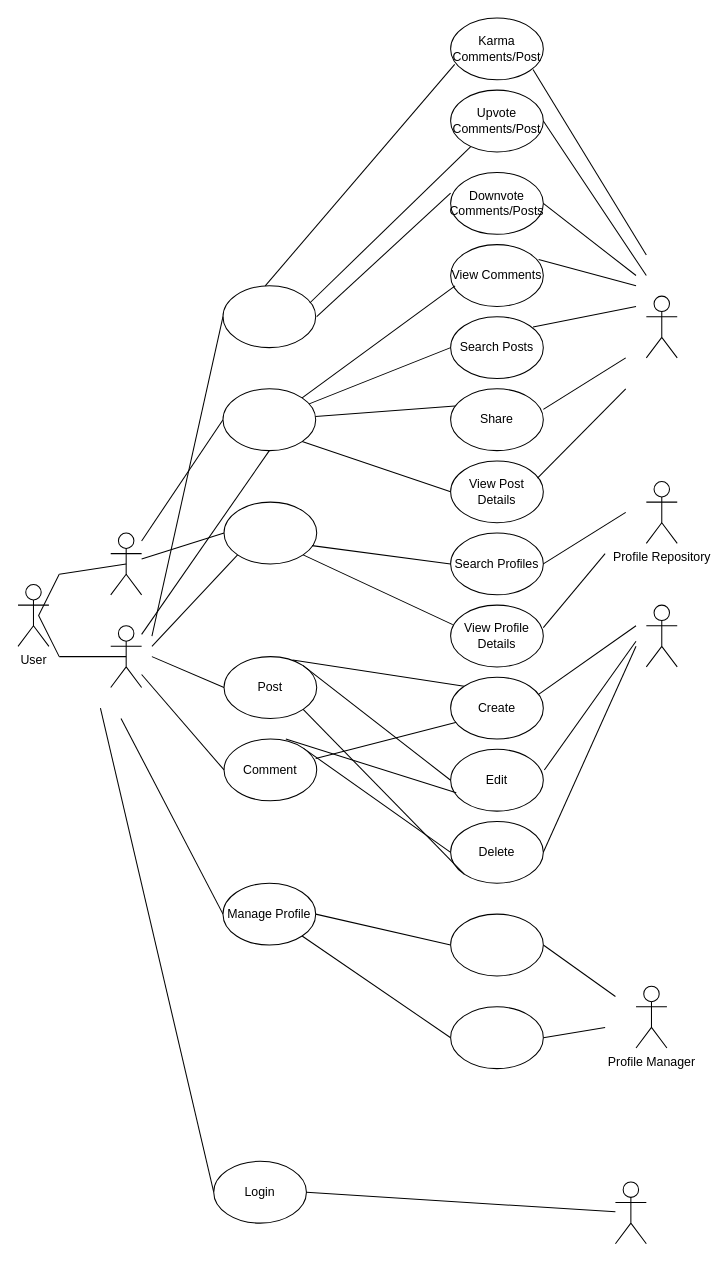
Some shapes in this 728 by 1283 pixel diagram are drawn without their labels. The shapes that lost their labels are listed below. From the top down, each one's centre as x and y in pixels, then its label:
the point at 269,316: Vote
the point at 661,326: Post/Comment Repository
the point at 269,419: Browse Posts
the point at 270,532: Browse profiles
the point at 126,563: New User
the point at 661,635: Post/Comment Manager
the point at 126,656: Existing User
the point at 496,944: Change user/pass
the point at 496,1037: Edit Bio/external links
the point at 630,1212: Auth/ID
